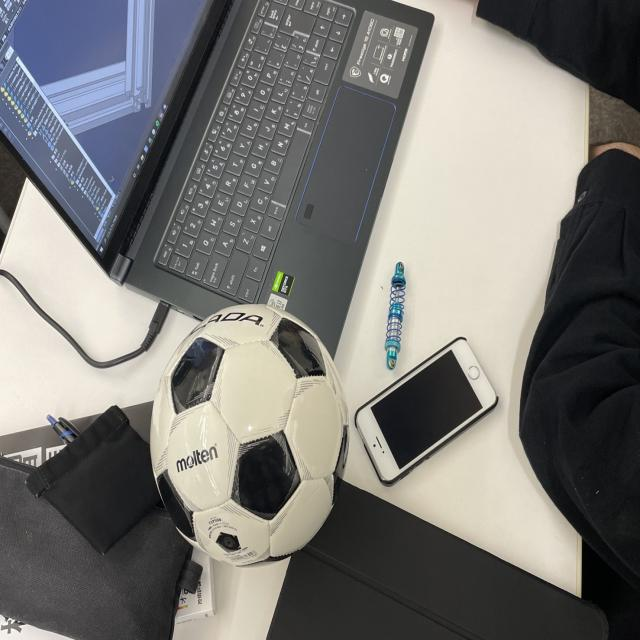ball: (148, 302, 347, 568)
